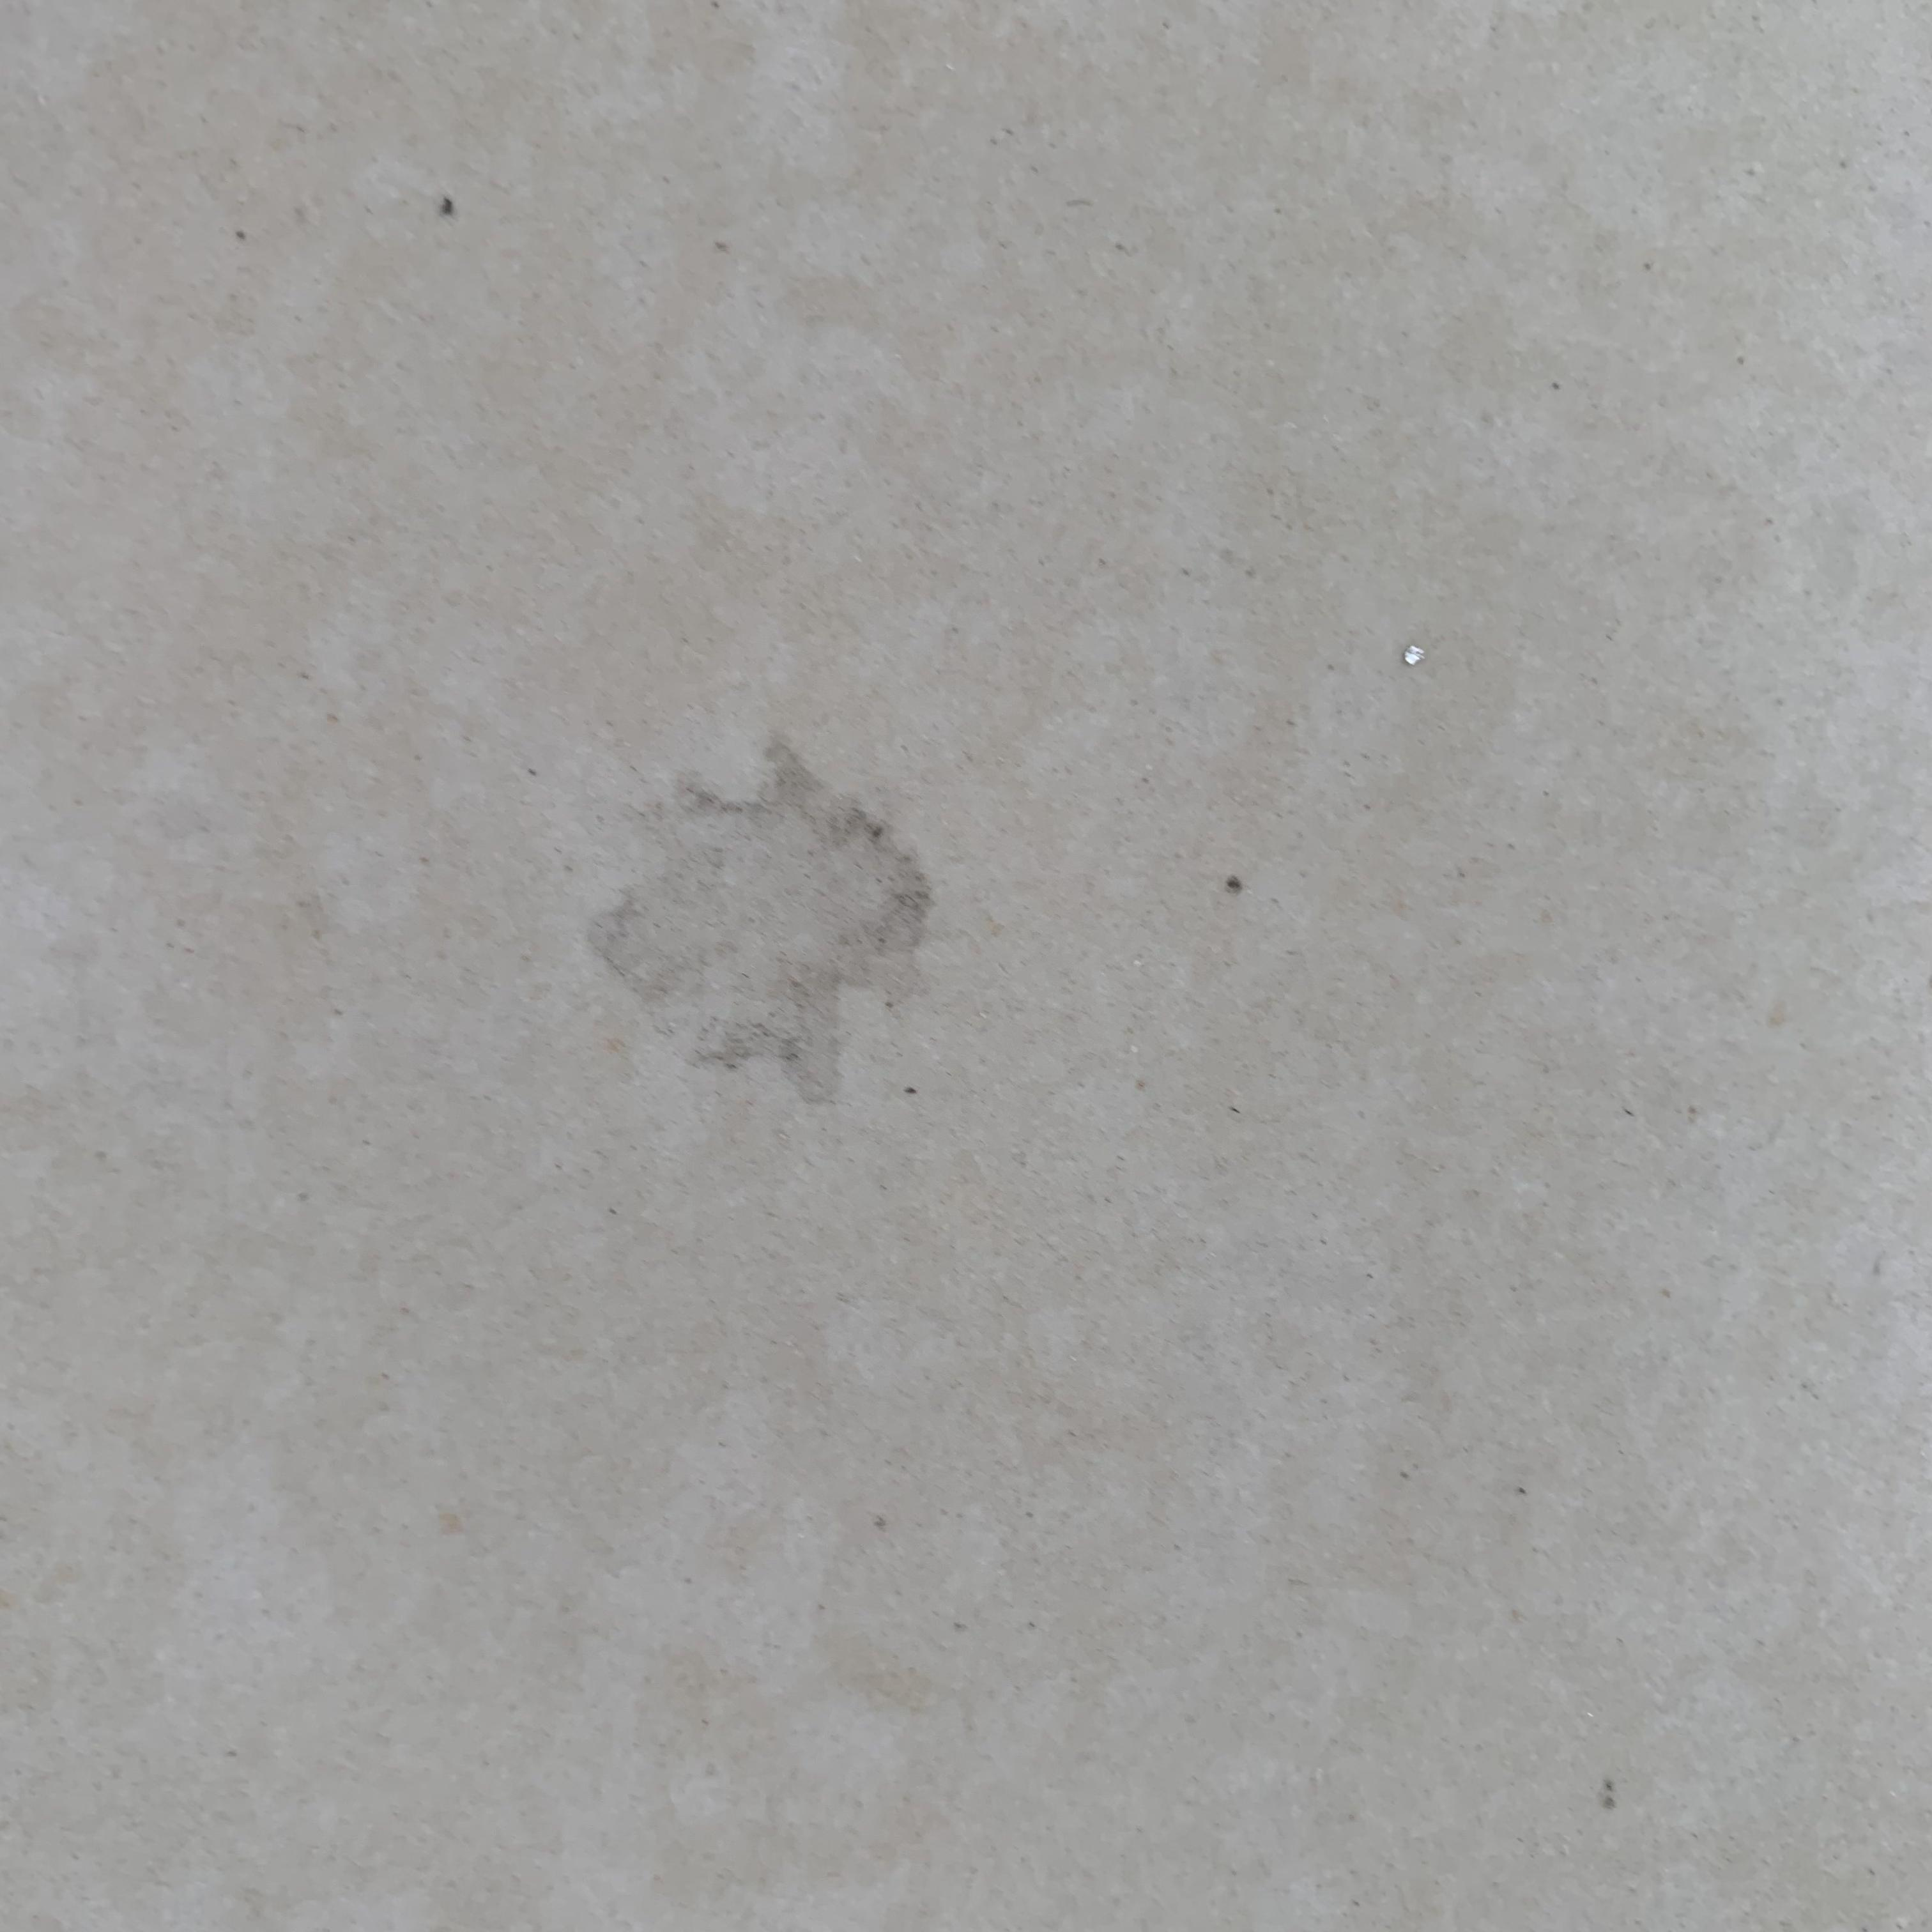grey spot: (584, 727, 932, 1106), (1228, 876, 1242, 892)
